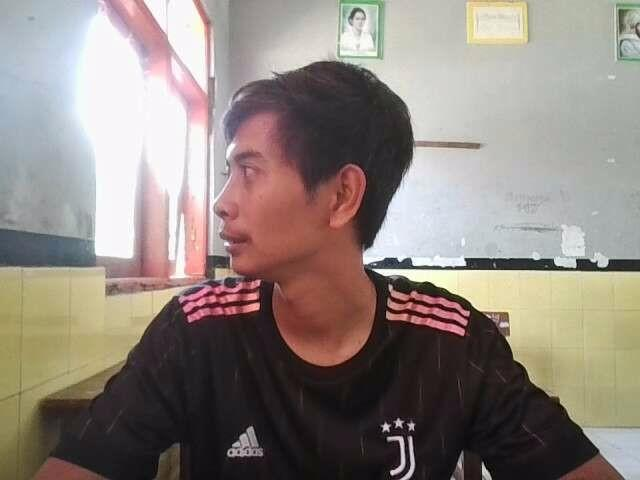cheating: (50, 51, 611, 480)
